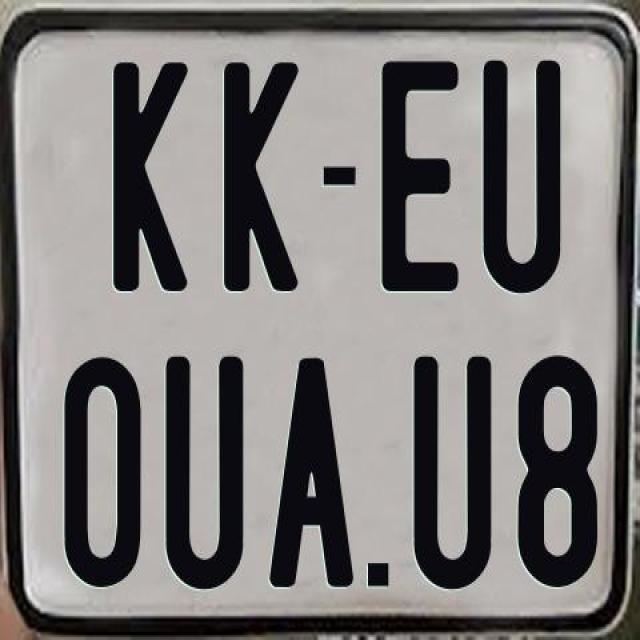0: (60, 353, 139, 588)
8: (517, 352, 600, 586)
A: (266, 358, 352, 594)
E: (381, 56, 467, 286)
K: (110, 60, 190, 298), (222, 62, 298, 301)
U: (412, 355, 497, 592), (164, 352, 248, 587), (481, 58, 563, 294)
